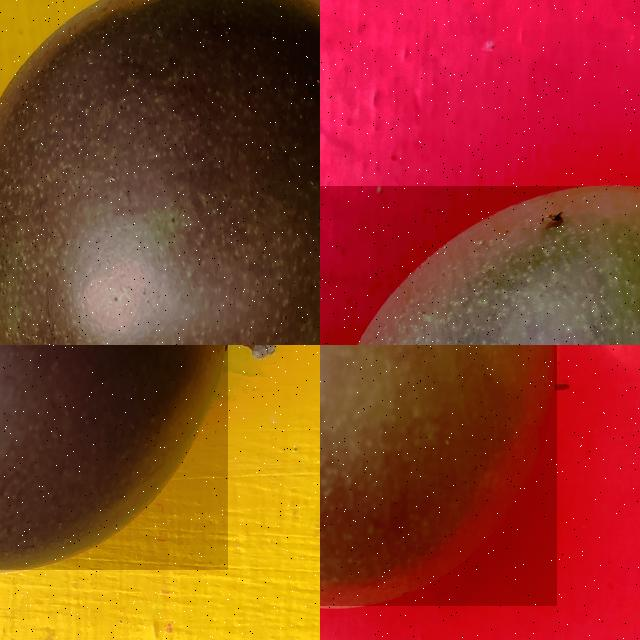Estado-2: (320, 345, 557, 605), (360, 186, 640, 345)
Estado-4: (0, 0, 320, 345)
